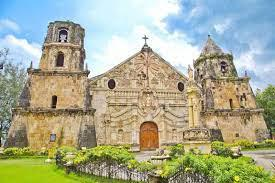Environmental Damage: (196, 54, 223, 63), (228, 55, 238, 79)
Miagao Church: (3, 16, 272, 151)
